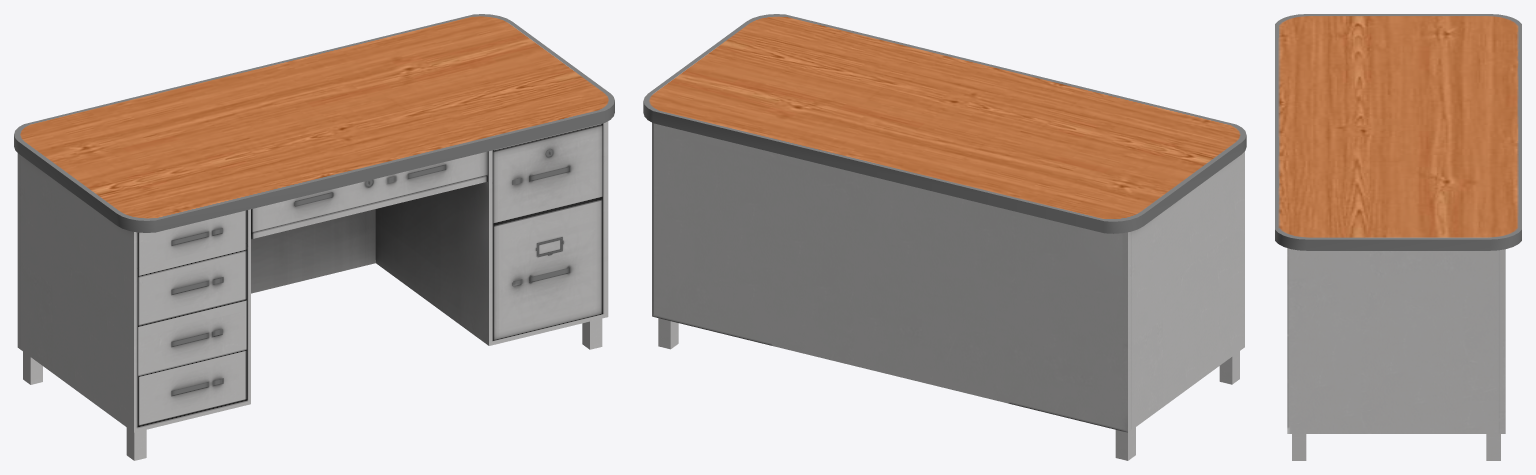
The model's file is xo_desk.fbx.
3 renders of one model, left to right at view 1: azimuth 30°, elevation 25°; view 2: azimuth 150°, elevation 25°; view 3: azimuth 270°, elevation 25°, orthographic. The views are drawn at different scales.
Parts seen in each view (by area): view 1: pCube10, polySurface44, pCube14; view 2: pCube10, polySurface44, pCube13; view 3: polySurface44, pCube10, pCube11, pCube12.
Boxes of the visible parts, box(x1,y1,x2,y2) form: pCube10: box(17, 121, 608, 432); polySurface44: box(14, 14, 614, 232); pCube14: box(126, 427, 146, 460); pCube10: box(652, 123, 1244, 432); polySurface44: box(643, 14, 1246, 233); pCube13: box(1115, 427, 1135, 460); polySurface44: box(1275, 14, 1521, 250); pCube10: box(1287, 248, 1505, 433); pCube11: box(1292, 434, 1306, 460); pCube12: box(1486, 434, 1500, 460).
Bounding box in the file's own units: 697 × 330 × 322.
